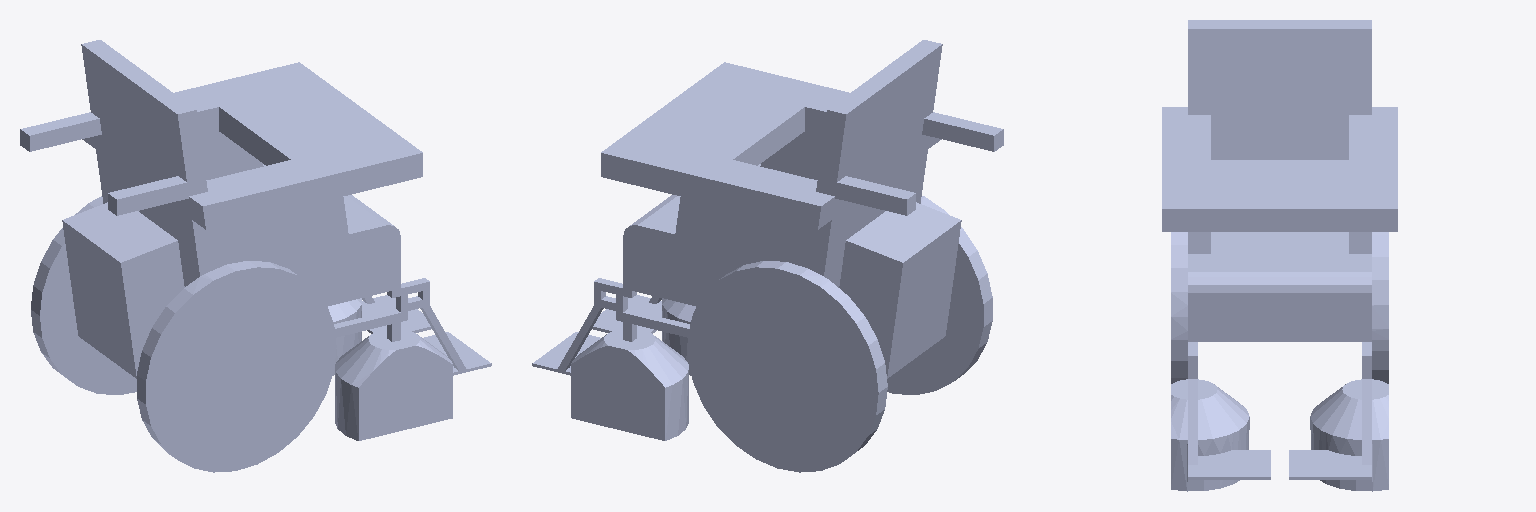
URDF robot description (wheelchair_simulation_normal):
<robot
  name="wheelchair_simulation_normal">
  <link
    name="base_link">
    <inertial>
      <origin
        xyz="0.516850733885454 -9.79327374737309E-05 0.538794679550697"
        rpy="0 0 0" />
      <mass
        value="261.77353773938" />
      <inertia
        ixx="0"
        ixy="0"
        ixz="0"
        iyy="0"
        iyz="0"
        izz="0" />
    </inertial>
    <visual>
      <origin
        xyz="0 0 0"
        rpy="0 0 0" />
      <geometry>
        <mesh
          filename="package://wheelchair_simulation_normal/meshes/base_link.STL" />
      </geometry>
      <material
        name="">
        <color
          rgba="0.792156862745098 0.819607843137255 0.933333333333333 1" />
      </material>
    </visual>
    <collision>
      <origin
        xyz="0 0 0"
        rpy="0 0 0" />
      <geometry>
        <mesh
          filename="package://wheelchair_simulation_normal/meshes/base_link.STL" />
      </geometry>
    </collision>
  </link>
</robot>

--- Facts derived from the render (not from the file) ---
The picture shows the robot from 3 angles, left to right: view 1: azimuth 30°, elevation 25°; view 2: azimuth 150°, elevation 25°; view 3: azimuth 270°, elevation 25°; orthographic projection.
Model wheelchair_simulation_normal with 1 links and 0 joints (none), rooted at base_link, posed all joints at 0.
Links seen in each view (by area): view 1: base_link; view 2: base_link; view 3: base_link.
Boxes of the visible links, box(x1,y1,x2,y2) form: base_link: box(20, 40, 491, 472); base_link: box(532, 40, 1003, 472); base_link: box(1162, 20, 1397, 491).
Size in the robot's own frame: 1.29 by 0.74 by 1.19 metres.
1 mesh visuals loaded from 1 distinct referenced files (1 binary STL).